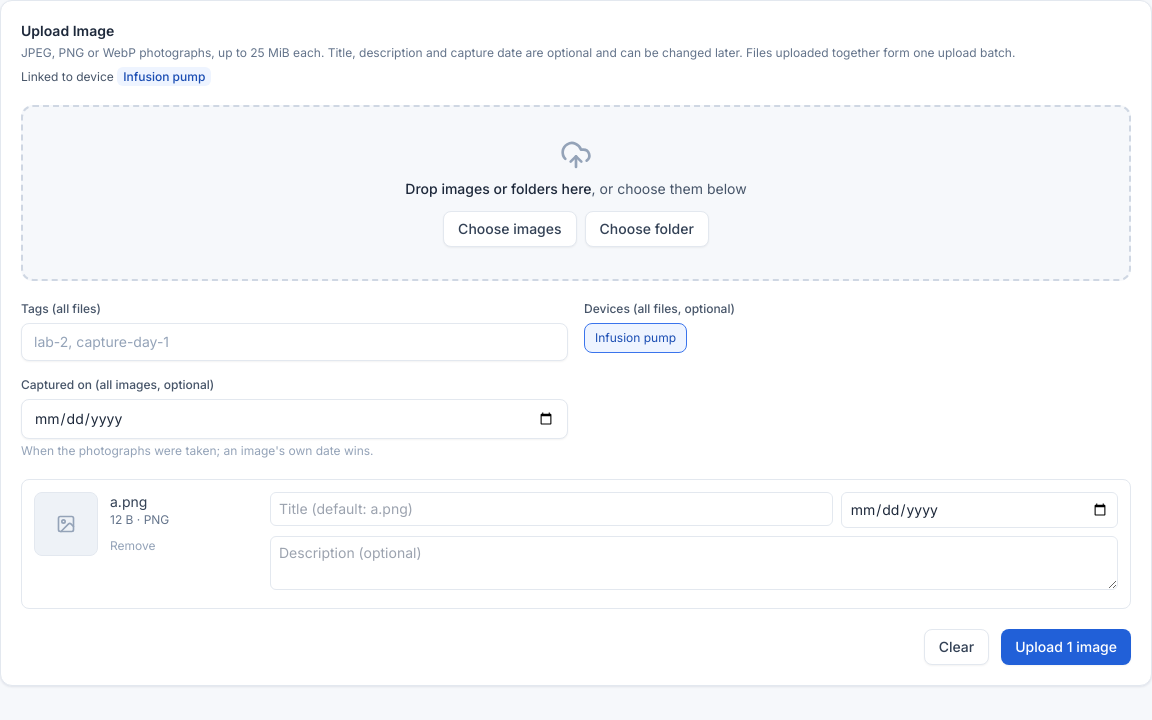
ArtifactUploader (images) › refuses an invalid capture date before uploading
The image size is (1152, 720).
Earlier steps of the test are not shown.
Type "1960-01-01" into the date field named "Capture date for a.png". click: (979, 510)
box: [841,492,1118,528]
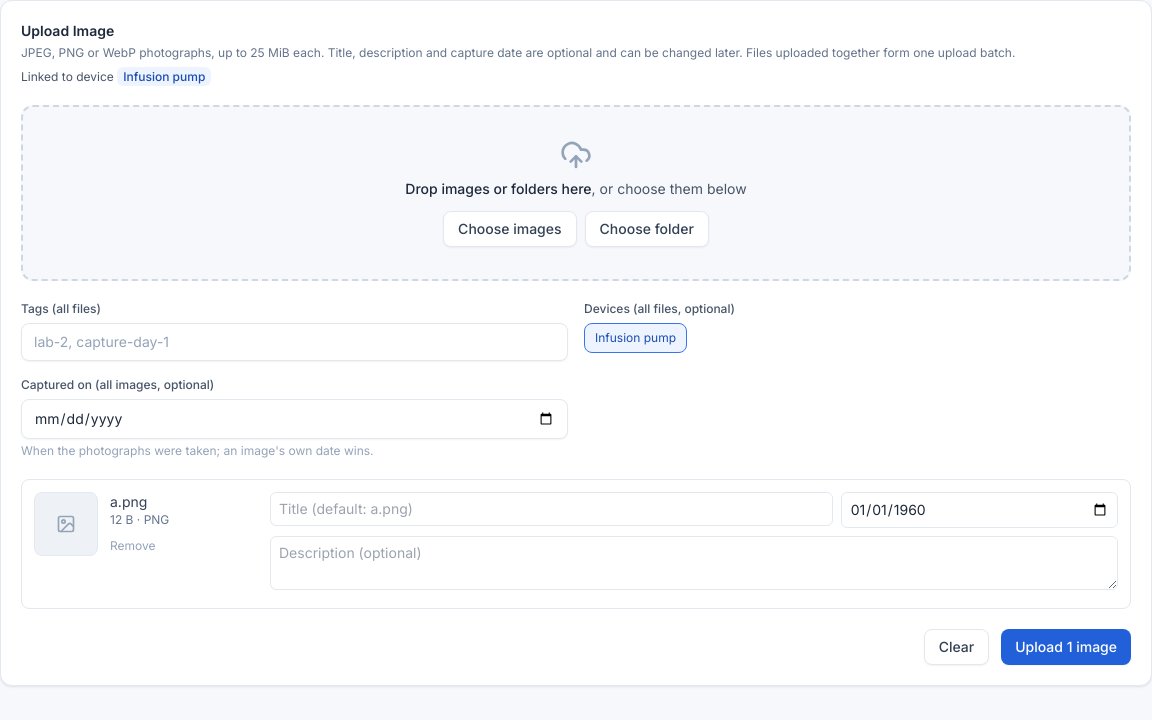
Click the button "Upload 1 image". click: (1066, 647)
box: [1001,629,1131,665]
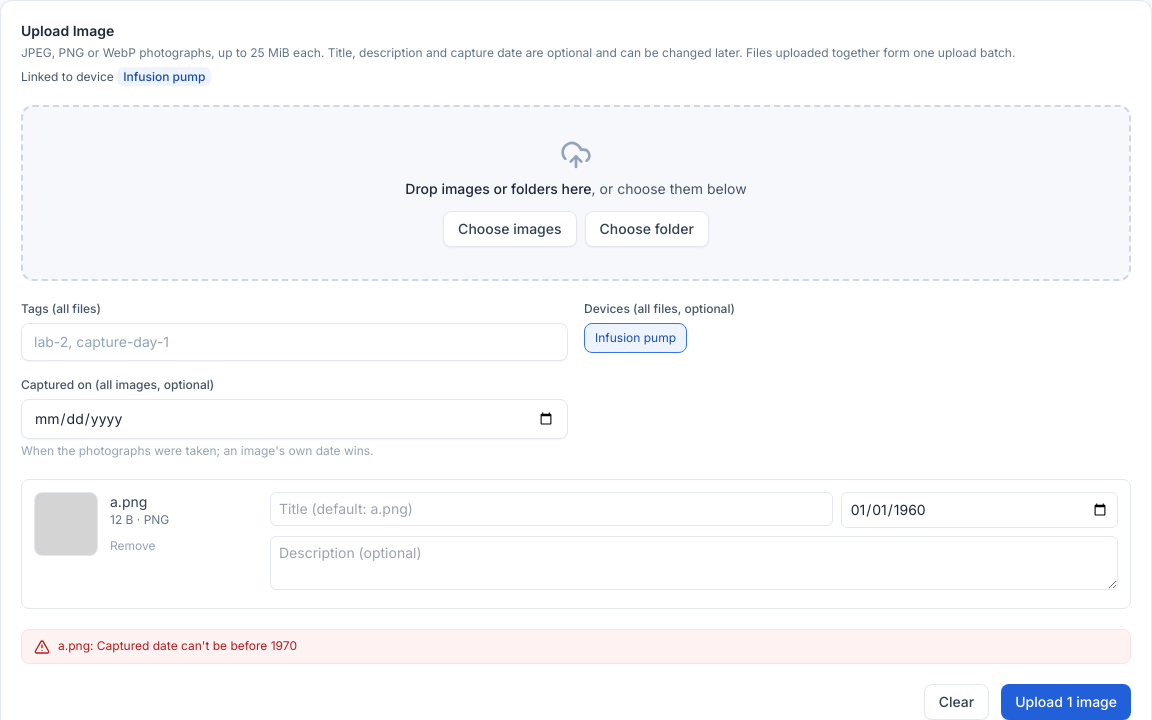
Expected: the text "a.png: Captured date can't be before 1970" is shown, [58,638,297,653]
